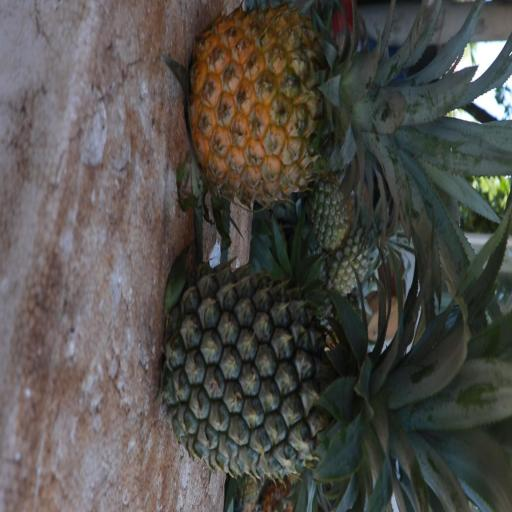Pineapple - v8 v1: (192, 12, 477, 188)
